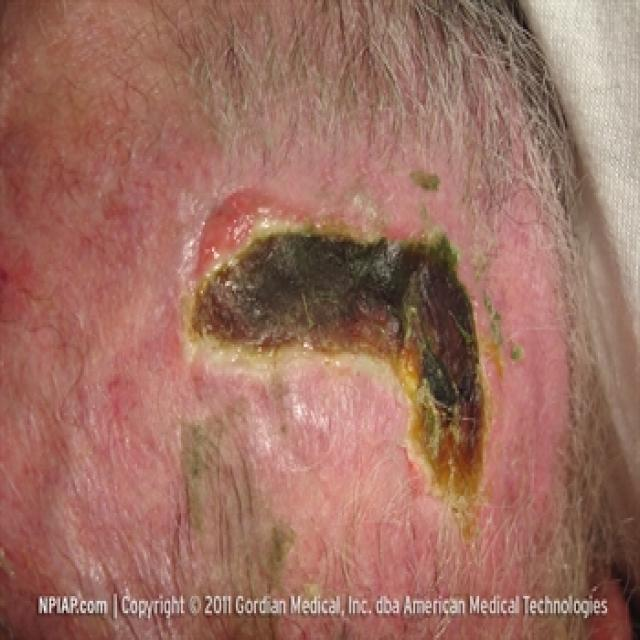Unstageable: (196, 215, 490, 526)
